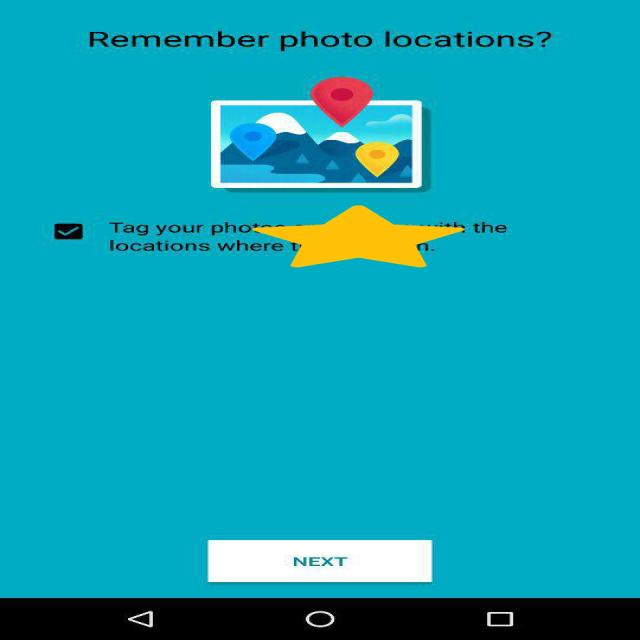forced continuity: (252, 205, 464, 268)
